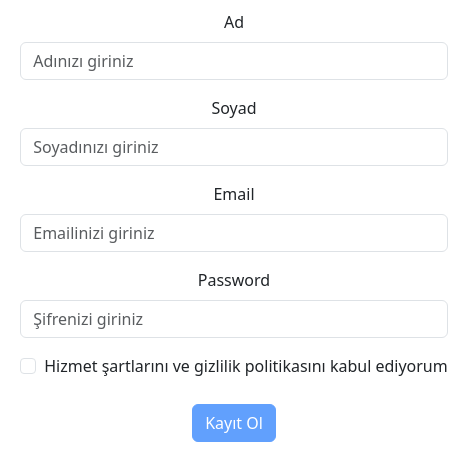
Kayıt Sayfası › Olumlu Testler › İnputlar doğruyken buton enabled mı?
The width and height of the screenshot is (469, 459).
Step 1. Type "Hakan" into the field with test id "input-ad" → (234,61), box [20,42,448,80]
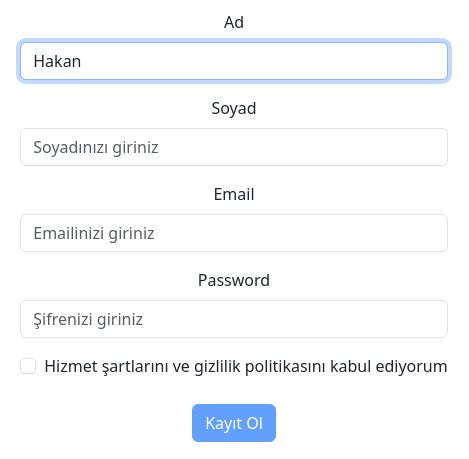
Step 2. Type "Yalçın" into the field with test id "input-soyad" → (234,147), box [20,128,448,166]
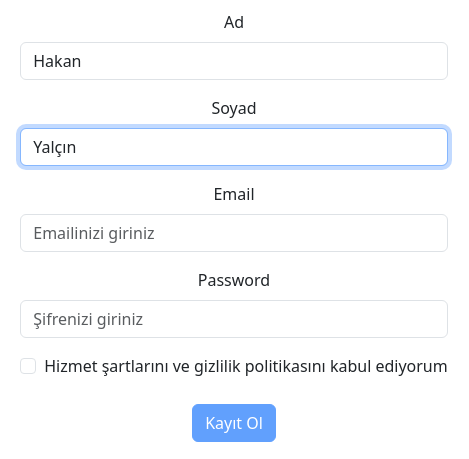
Step 3. Type "hakanry@wit.com" into the field with test id "input-email" → (234,233), box [20,214,448,252]
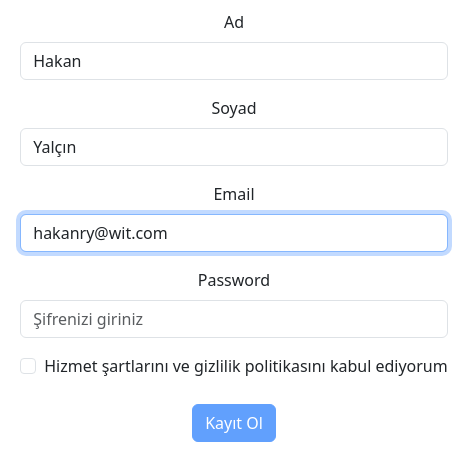
Step 4. Type "Hakan123*!" into the password field with test id "input-password" → (234,319), box [20,300,448,338]
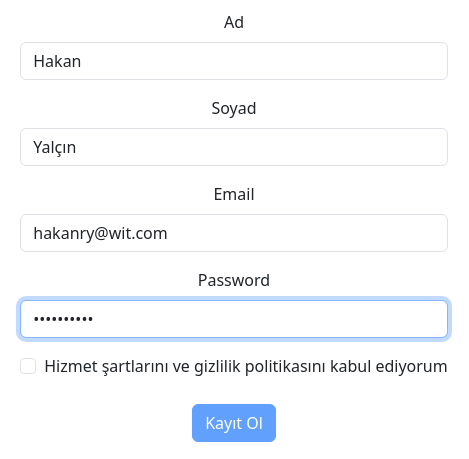
Step 5. Check the checkbox with test id "checkbox" → (28,366), box [20,358,36,374]
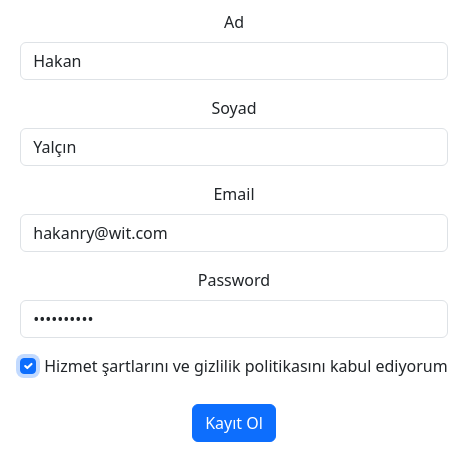
Now the button with test id "buton-submit" is enabled, box [192,404,276,442]
